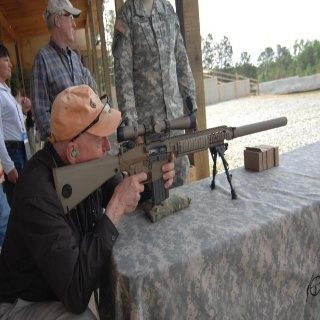rifle: (52, 112, 291, 215)
